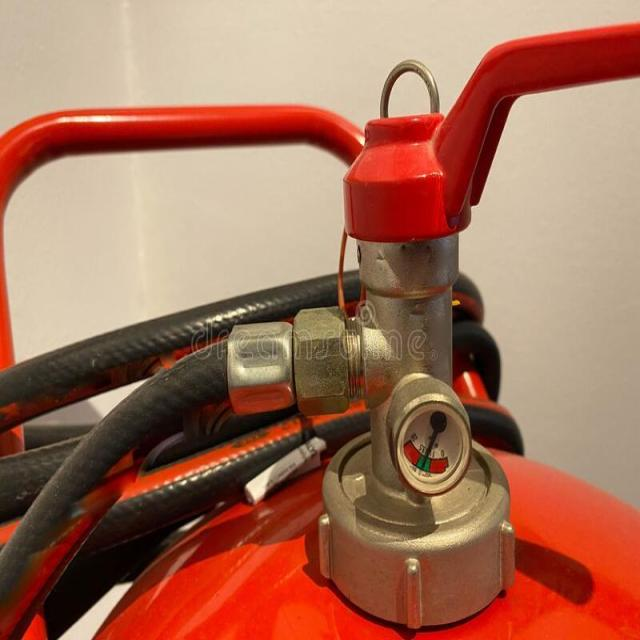fire_extinguisher: (40, 13, 639, 639)
